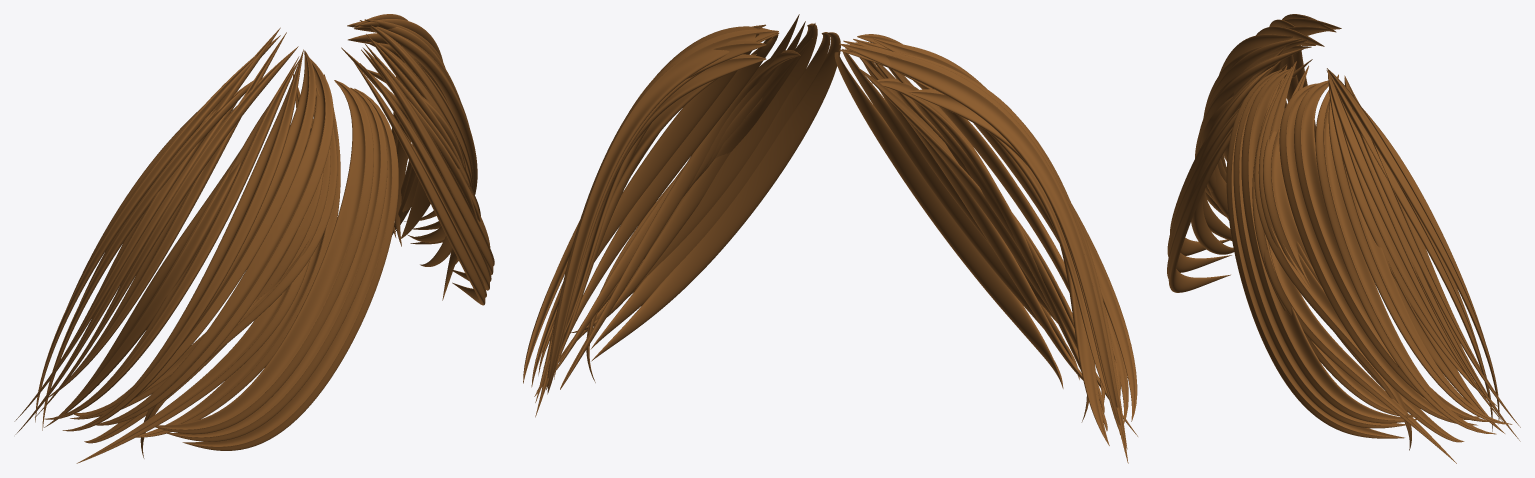
Rendered from poop.glb.
The picture shows the model from 3 angles, left to right: view 1: azimuth 30°, elevation 25°; view 2: azimuth 150°, elevation 25°; view 3: azimuth 270°, elevation 25°; orthographic projection. The views are drawn at different scales.
Visible parts, largest first — view 1: NurbsPath.008, NurbsPath.003, NurbsPath.013, NurbsPath.002, NurbsPath.007, NurbsPath.011, NurbsPath.017, NurbsPath.012, NurbsPath.001, NurbsPath.005, NurbsPath.015, NurbsPath.014 (+24 smaller); view 2: NurbsPath.021, NurbsPath.015, NurbsPath.034, NurbsPath.002, NurbsPath.026, NurbsPath.022, NurbsPath.028, NurbsPath.007, NurbsPath.030, NurbsPath.027, NurbsPath.001, NurbsPath.009 (+23 smaller); view 3: NurbsPath.032, NurbsPath.027, NurbsPath.022, NurbsPath.030, NurbsPath.031, NurbsPath.026, NurbsPath.021, NurbsPath.033, NurbsPath.034, NurbsPath.024, NurbsPath.035, NurbsPath.028 (+21 smaller).
Boxes of the visible parts, <box> form: NurbsPath.008: <box>155,80,373,434</box>; NurbsPath.003: <box>96,58,333,425</box>; NurbsPath.013: <box>62,49,303,431</box>; NurbsPath.002: <box>182,88,398,450</box>; NurbsPath.007: <box>167,87,387,441</box>; NurbsPath.011: <box>70,50,316,419</box>; NurbsPath.017: <box>44,56,299,427</box>; NurbsPath.012: <box>43,59,299,419</box>; NurbsPath.001: <box>136,74,340,437</box>; NurbsPath.005: <box>76,74,310,463</box>; NurbsPath.015: <box>35,35,280,422</box>; NurbsPath.014: <box>48,32,286,397</box>; NurbsPath.021: <box>591,32,840,361</box>; NurbsPath.015: <box>845,47,1120,424</box>; NurbsPath.034: <box>546,29,778,389</box>; NurbsPath.002: <box>834,51,1063,388</box>; NurbsPath.026: <box>590,32,830,349</box>; NurbsPath.022: <box>554,34,778,379</box>; NurbsPath.028: <box>560,50,800,389</box>; NurbsPath.007: <box>842,49,1079,379</box>; NurbsPath.030: <box>538,51,751,375</box>; NurbsPath.027: <box>578,23,817,339</box>; NurbsPath.001: <box>860,58,1083,380</box>; NurbsPath.009: <box>871,78,1107,431</box>; NurbsPath.032: <box>1315,74,1496,434</box>; NurbsPath.027: <box>1241,69,1418,423</box>; NurbsPath.022: <box>1279,83,1477,425</box>; NurbsPath.030: <box>1294,80,1490,421</box>; NurbsPath.031: <box>1328,100,1512,424</box>; NurbsPath.026: <box>1233,77,1405,428</box>; NurbsPath.021: <box>1226,69,1404,438</box>; NurbsPath.033: <box>1328,70,1497,406</box>; NurbsPath.034: <box>1327,68,1499,424</box>; NurbsPath.024: <box>1264,65,1456,463</box>; NurbsPath.035: <box>1328,71,1502,421</box>; NurbsPath.028: <box>1263,108,1464,442</box>.
Size of the model in its own units: 5.17 by 3.47 by 3.31.
